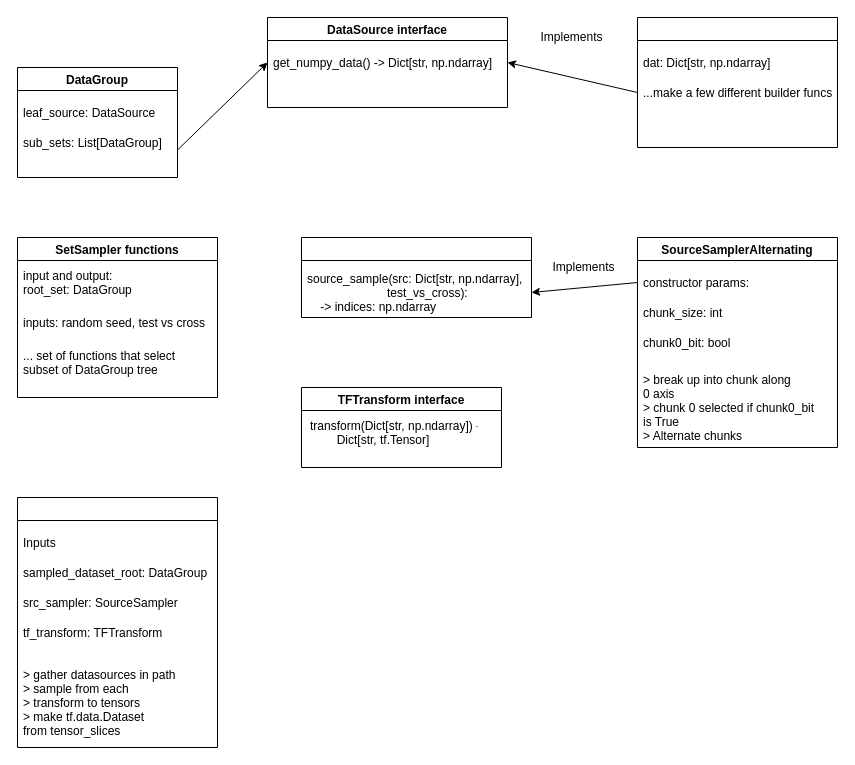
This 855x765 diagram has some shape labels left out. Here are the shapes that lost their labels. From the top down, the box of each, then its label:
(636, 16, 838, 148): DataSourceInMemory
(300, 236, 532, 318): SourceSampler interface
(16, 496, 218, 748): build_data_inmemory function
